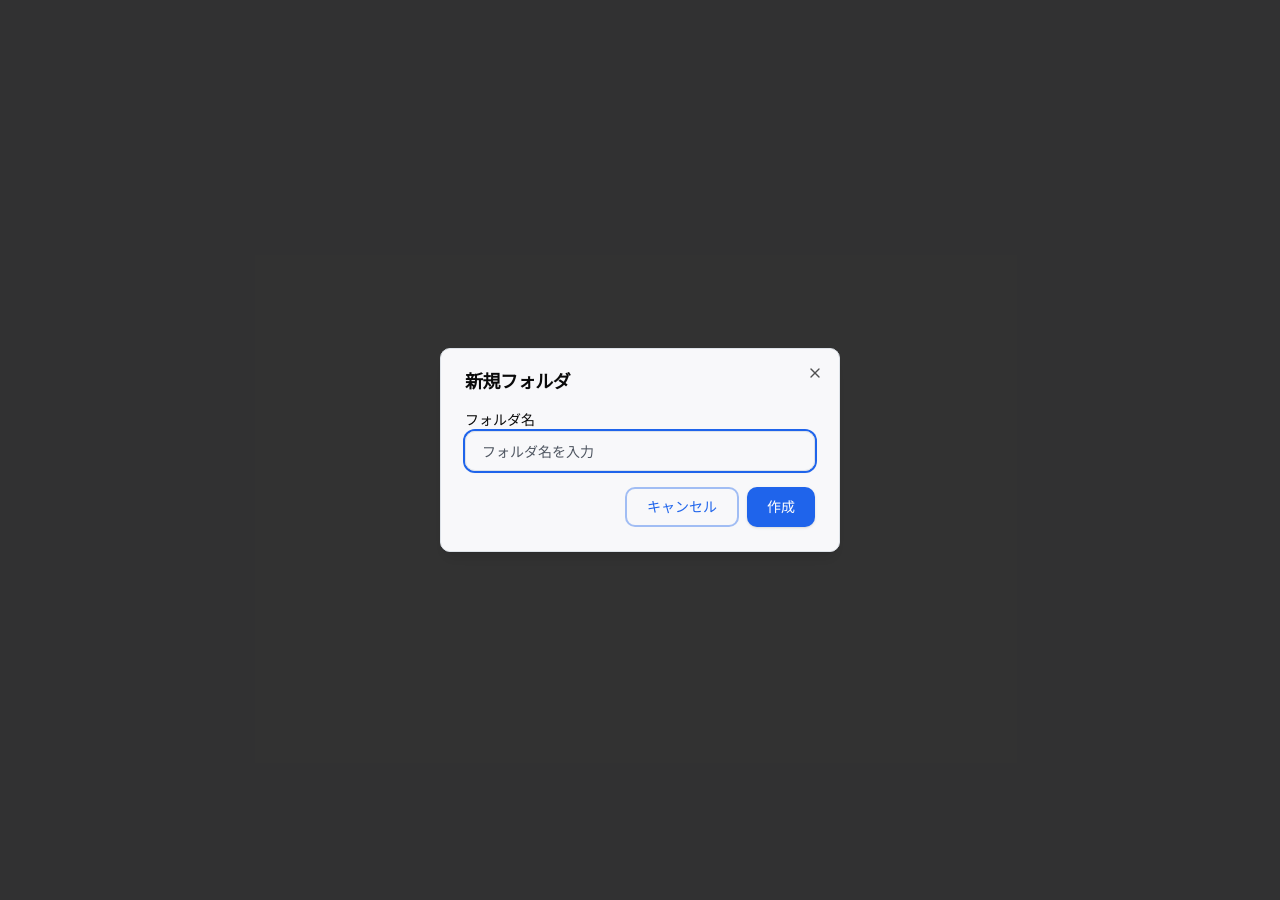
Test: CreateFolderModal › バリデーション › 同じ階層に同名フォルダがある場合はエラー
Type "キャラクター" into the field labelled "フォルダ名".
click(640, 451); type("キャラクター")  # box [465,431,815,471]
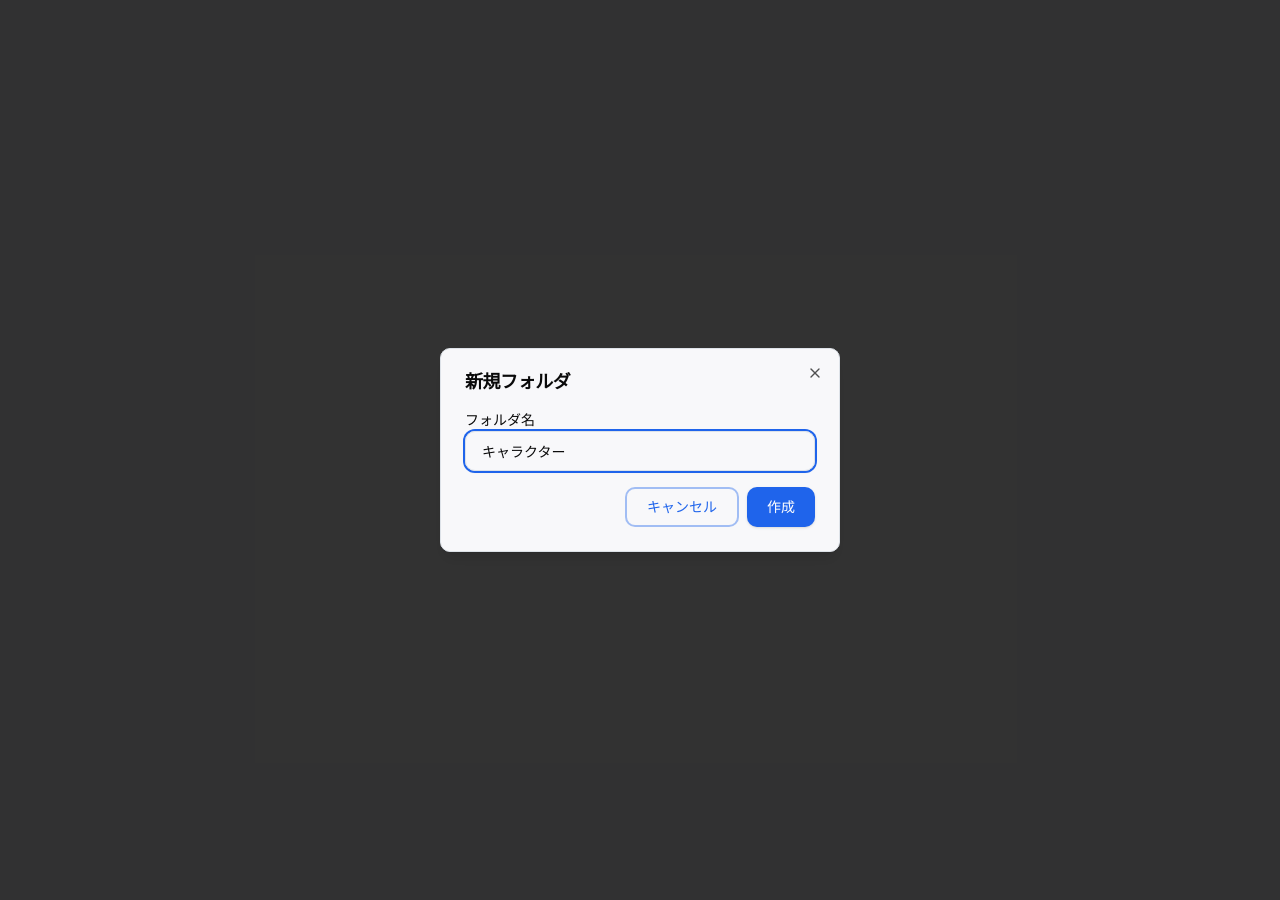
Click the button "作成".
click(781, 507)  # box [747,487,815,527]
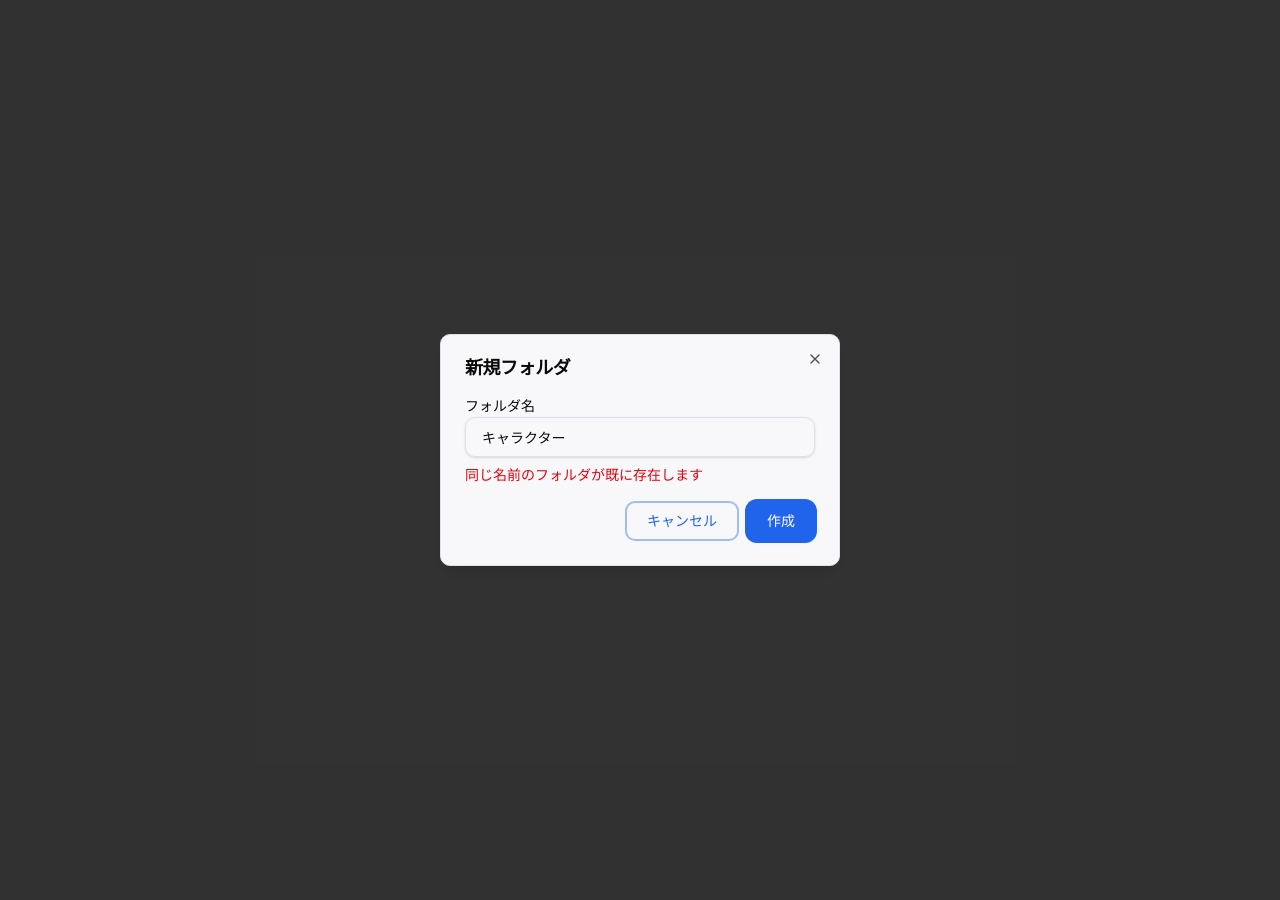
Check: the text "同じ名前のフォルダが既に存在します" is shown, box [465,466,703,483]
